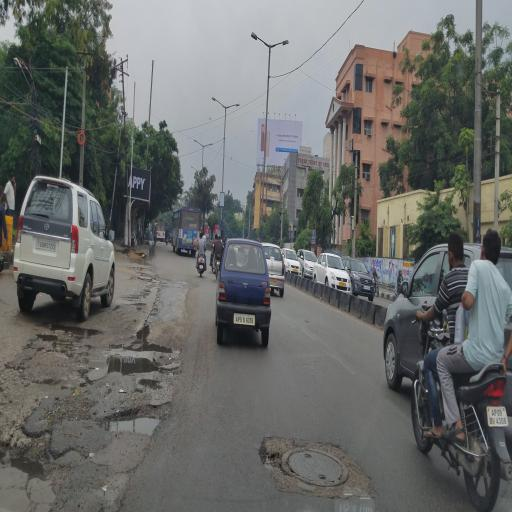street_light_0: (267, 24, 297, 60), (246, 21, 272, 60), (225, 94, 245, 118), (208, 94, 227, 117), (189, 132, 204, 154), (202, 132, 216, 154)
